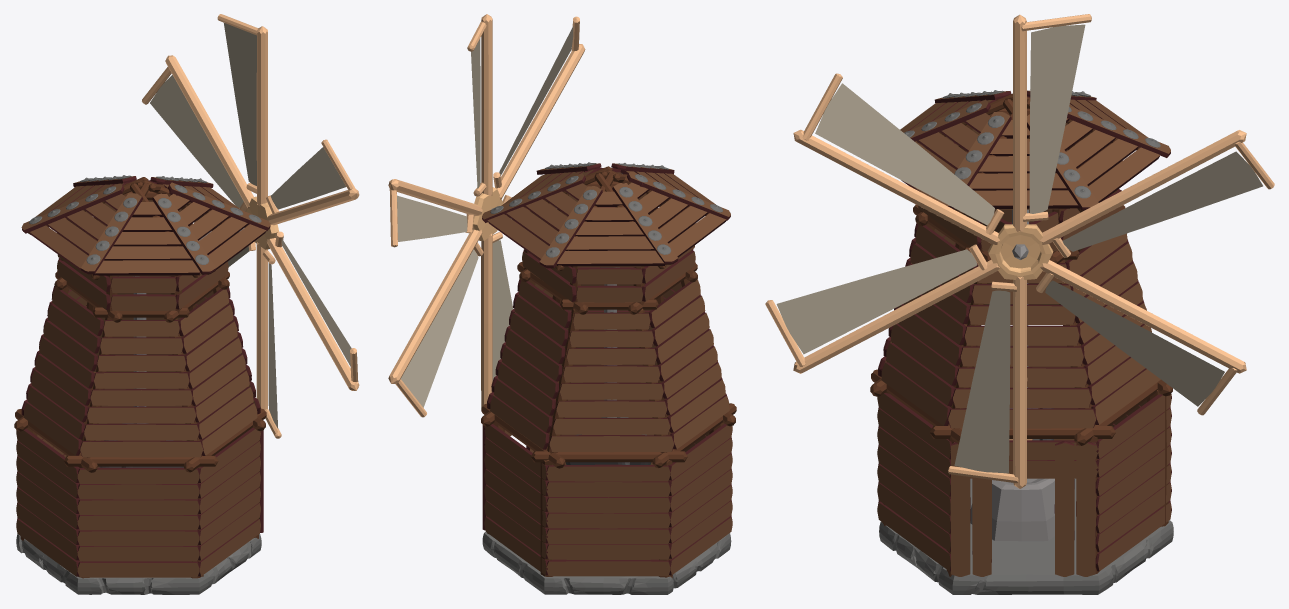
Rendered from mill.fbx.
The picture shows the model from 3 angles, left to right: view 1: azimuth 30°, elevation 25°; view 2: azimuth 150°, elevation 25°; view 3: azimuth 270°, elevation 25°; orthographic projection. The views are drawn at different scales.
Visible parts, largest first — view 1: Cylinder.001, Plane.003, Plane.001, Plane.004, Cylinder.092, Cylinder.063, Cylinder.196, Cylinder.093, Cylinder.057, Cylinder.202, Cylinder.199, Cylinder.059 (+67 smaller); view 2: Cylinder.001, Plane.005, Plane.003, Cylinder.084, Cylinder.208, Cylinder.100, Cylinder.082, Cylinder.078, Cylinder.196, Cylinder.081, Cylinder.205, Cylinder.079 (+69 smaller); view 3: Cylinder.001, Plane.002, Plane.004, Plane.001, Plane, Plane.003, Plane.005, Cylinder.189, Cylinder.202, Cylinder.208, Cylinder.205, Cylinder.199 (+60 smaller).
Part boxes in pixels (left/top/right/bottom): Cylinder.001: left=16, top=534, right=261, bottom=594; Plane.003: left=150, top=75, right=243, bottom=207; Plane.001: left=224, top=23, right=256, bottom=185; Plane.004: left=270, top=147, right=346, bottom=209; Cylinder.092: left=80, top=440, right=203, bottom=457; Cylinder.063: left=77, top=561, right=199, bottom=577; Cylinder.196: left=256, top=26, right=267, bottom=206; Cylinder.093: left=83, top=423, right=199, bottom=440; Cylinder.057: left=77, top=467, right=199, bottom=484; Cylinder.202: left=165, top=55, right=253, bottom=209; Cylinder.199: left=266, top=238, right=359, bottom=390; Cylinder.059: left=77, top=499, right=199, bottom=514; Cylinder.001: left=482, top=532, right=731, bottom=594; Plane.005: left=401, top=249, right=478, bottom=407; Plane.003: left=397, top=195, right=467, bottom=241; Cylinder.084: left=545, top=559, right=670, bottom=576; Cylinder.208: left=388, top=229, right=482, bottom=383; Cylinder.100: left=549, top=435, right=674, bottom=452; Cylinder.082: left=545, top=528, right=670, bottom=544; Cylinder.078: left=545, top=464, right=670, bottom=481; Cylinder.196: left=481, top=14, right=492, bottom=196; Cylinder.081: left=546, top=512, right=670, bottom=528; Cylinder.205: left=495, top=44, right=585, bottom=199; Cylinder.079: left=546, top=481, right=670, bottom=497; Cylinder.001: left=879, top=478, right=1173, bottom=594; Plane.002: left=776, top=249, right=977, bottom=354; Plane.004: left=815, top=83, right=994, bottom=225; Plane.001: left=1029, top=24, right=1085, bottom=213; Plane: left=954, top=290, right=1010, bottom=473; Plane.003: left=1062, top=151, right=1262, bottom=251; Plane.005: left=1045, top=280, right=1224, bottom=406; Cylinder.189: left=970, top=478, right=1074, bottom=541; Cylinder.202: left=1040, top=130, right=1246, bottom=244; Cylinder.208: left=1037, top=260, right=1246, bottom=373; Cylinder.205: left=793, top=129, right=999, bottom=244; Cylinder.199: left=793, top=259, right=999, bottom=373.
Size of the model in its own units: 945 by 1931 by 1489.
